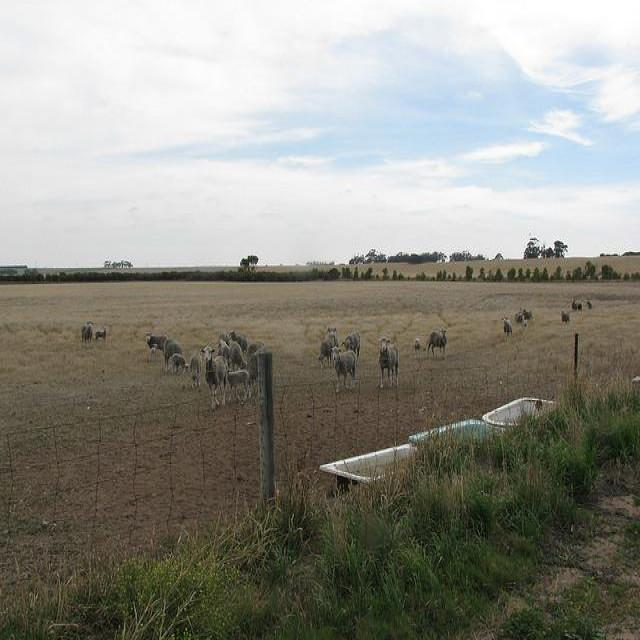Sheep: (94, 296, 595, 360)
